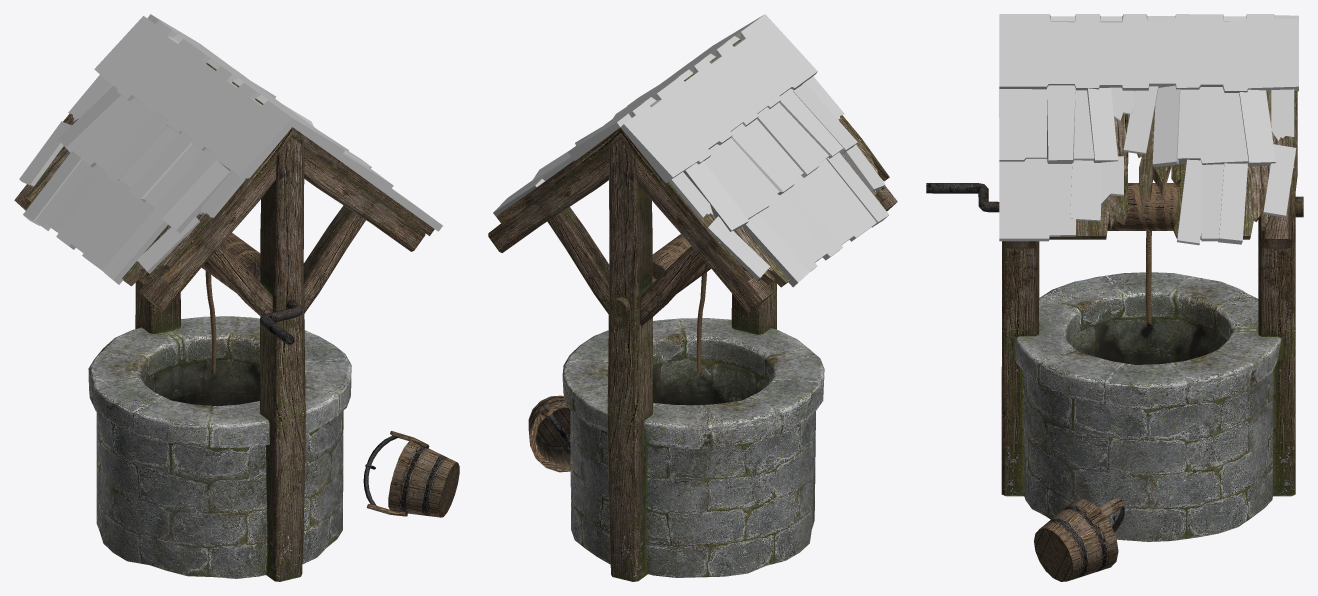
The model's file is CA_Well_Destruction_Stage1.fbx.
3 views of the same model, side by side, from view 1: azimuth 30°, elevation 25°; view 2: azimuth 150°, elevation 25°; view 3: azimuth 270°, elevation 25° (orthographic). The views are drawn at different scales.
Visible parts, largest first — view 1: CA_Well_Destruction_Stage1; view 2: CA_Well_Destruction_Stage1; view 3: CA_Well_Destruction_Stage1.
Part boxes in pixels (x1,y1,x2,y2): CA_Well_Destruction_Stage1: [14, 14, 459, 581]; CA_Well_Destruction_Stage1: [488, 14, 897, 581]; CA_Well_Destruction_Stage1: [926, 14, 1303, 581].
Size of the model in its own units: 238 by 297 by 214.
